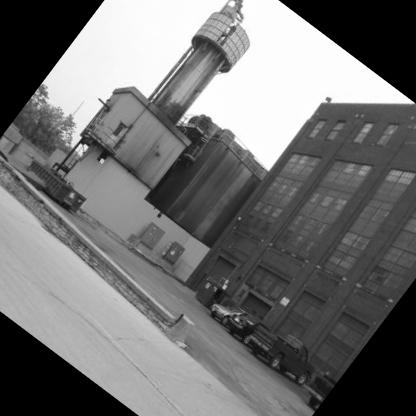car: (234, 305, 340, 405)
